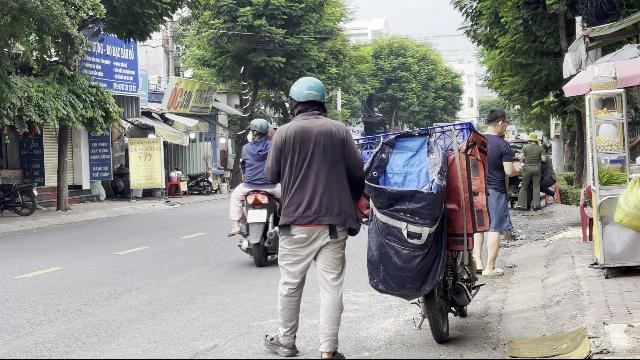helmet: (246, 118, 270, 140)
licenseplate: (247, 209, 267, 222)
motorcyclist: (225, 118, 279, 266)
